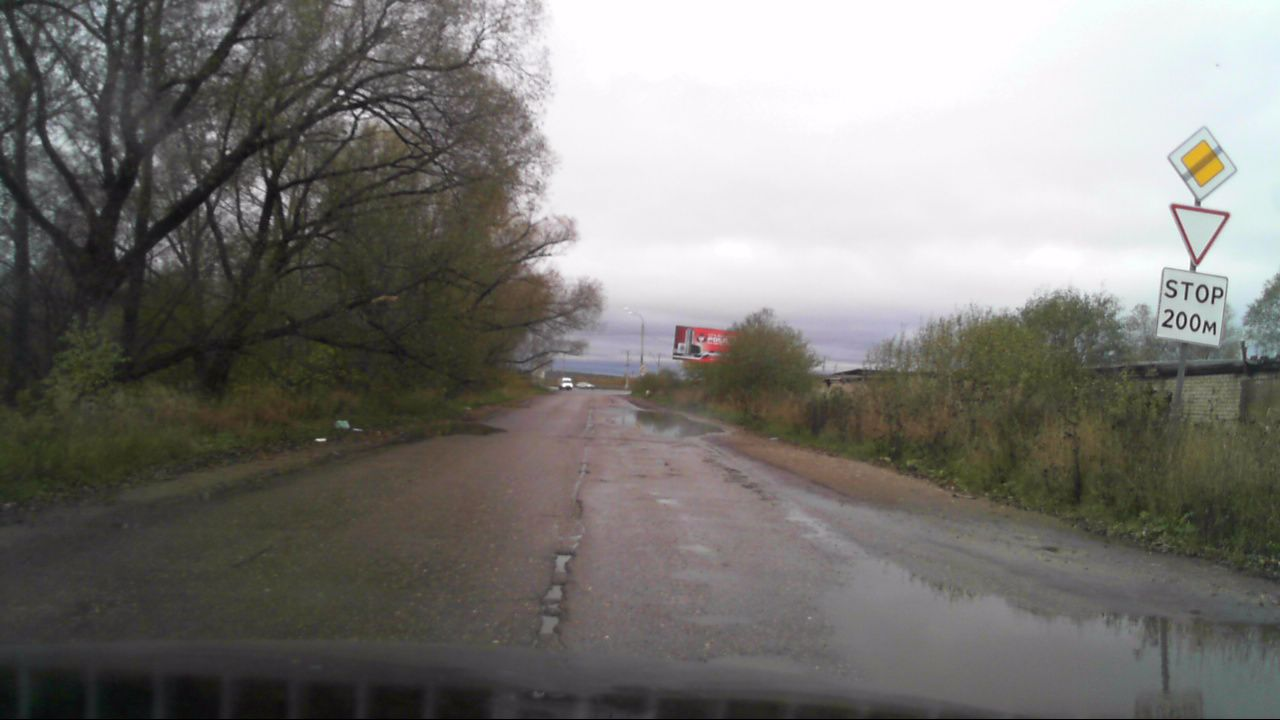main road: (1167, 125, 1239, 203)
